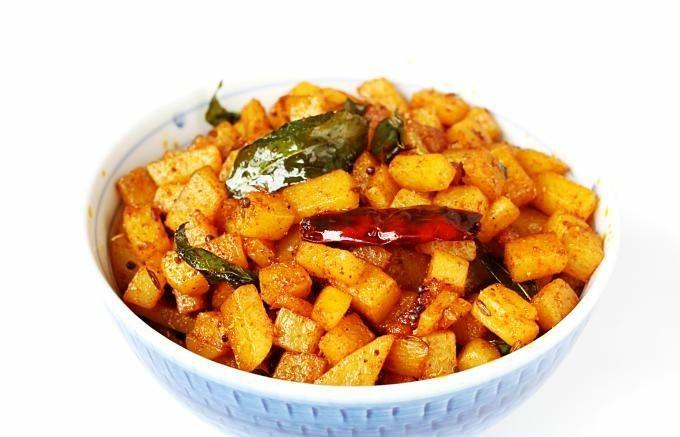AlooMasala: (106, 77, 604, 387)
